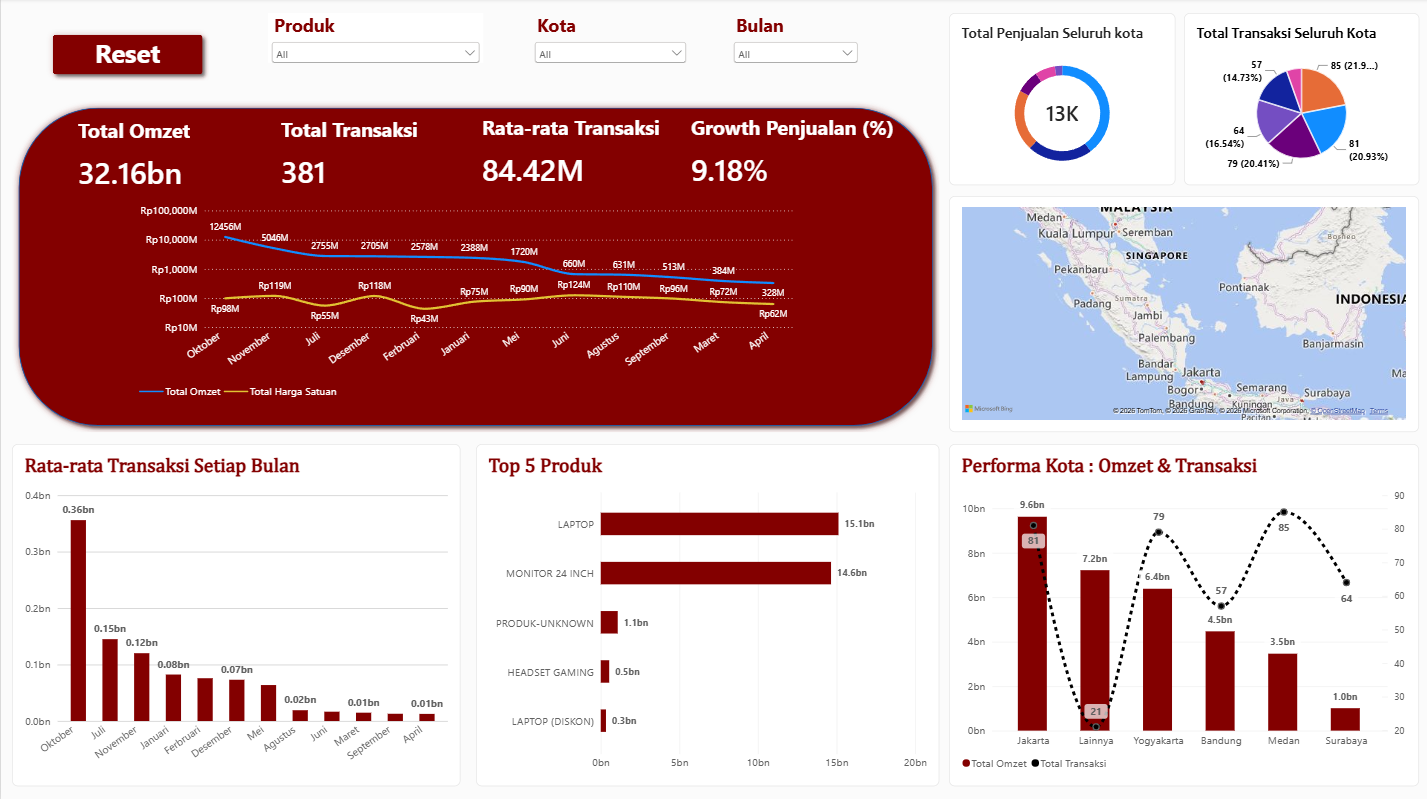

This screenshot's page, from the dashboard's own definition file:
{"tool":"powerbi","page":{"name":"Duplicate of Duplicate of Page 1","canvas":[1920,1080],"ordinal":0},"visuals":[{"type":"shape","box":[14.6,138.6,1248.9,446.4],"z":0},{"type":"cardVisual","fields":{"Data":["public produksi.Total Omzet"]},"box":[87.5,135.7,300,150],"z":1000},{"type":"lineChart","fields":{"Category":["public produksi.Bulan"],"Y":["public produksi.Total Omzet","public produksi.Total Harga Satuan"]},"box":[170.7,261.2,911.9,299.1],"z":2000},{"type":"slicer","fields":{"Values":["public produksi.Produk"]},"box":[358.9,20.4,290.3,67.1],"z":3000},{"type":"slicer","fields":{"Values":["calendar.Month name"]},"box":[981.9,20.4,176.5,67.1],"z":4000},{"type":"cardVisual","fields":{"Data":["public produksi.Total Transaksi"]},"box":[360.4,134.2,300,150],"z":5000},{"type":"filledMap","fields":{"Category":["public produksi.Kota_Toko"]},"box":[1276.6,267,633.2,318.1],"z":6000},{"type":"slicer","fields":{"Values":["public produksi.Kota_Toko"]},"box":[713.4,20.4,214.5,67.1],"z":7000},{"type":"clusteredColumnChart","title":"Rata-rata Transaksi Setiap Bulan","fields":{"Category":["public produksi.Bulan"],"Y":["public produksi.Rata-rata Transaksi"]},"box":[14.6,601.1,604,461],"z":8000},{"type":"cardVisual","fields":{"Data":["public produksi.Rata-rata Transaksi"]},"box":[631.7,131.3,300,150],"z":9000},{"type":"cardVisual","fields":{"Data":["public produksi.Growth Penjualan (%)"]},"box":[913.3,131.3,319.5,150.3],"z":10000},{"type":"donutChart","fields":{"Category":["public produksi.Kota_Toko"],"Y":["public produksi.Total Quantity"]},"box":[1276.6,20.4,304.9,232],"z":11000},{"type":"clusteredBarChart","title":"Top 5 Produk","fields":{"Category":["public produksi.Produk"],"Y":["public produksi.Total Omzet"]},"box":[639,601.1,624.4,461],"z":12000},{"type":"lineClusteredColumnComboChart","title":"Performa Kota : Omzet & Transaksi","fields":{"Category":["public produksi.Kota_Toko"],"Y":["public produksi.Total Omzet"],"Y2":["public produksi.Total Transaksi"]},"box":[1276.6,601.1,633,461],"z":13000},{"type":"pieChart","title":"Total Transaksi Seluruh Kota","fields":{"Category":["public produksi.Kota_Toko"],"Y":["public produksi.Total Transaksi"]},"box":[1593.2,20.4,316.6,232],"z":14000},{"type":"actionButton","box":[60,40,220,71.4],"z":15000}]}

Visuals, with their boxes in screenshot pixels (x1, y1, x2, y2), scaled from the page's 1920x1080 canvas onto the 1427x799 screenshot:
shape: 11, 103, 939, 433
cardVisual - public produksi.Total Omzet: 65, 100, 288, 211
lineChart - public produksi.Bulan x public produksi.Total Omzet: 127, 193, 805, 415
slicer - public produksi.Produk: 267, 15, 483, 65
slicer - calendar.Month name: 730, 15, 861, 65
cardVisual - public produksi.Total Transaksi: 268, 99, 491, 210
filledMap - public produksi.Kota_Toko: 949, 198, 1419, 433
slicer - public produksi.Kota_Toko: 530, 15, 690, 65
"Rata-rata Transaksi Setiap Bulan" clusteredColumnChart: 11, 445, 460, 786
cardVisual - public produksi.Rata-rata Transaksi: 469, 97, 692, 208
cardVisual - public produksi.Growth Penjualan (%): 679, 97, 916, 208
donutChart - public produksi.Kota_Toko x public produksi.Total Quantity: 949, 15, 1175, 187
"Top 5 Produk" clusteredBarChart: 475, 445, 939, 786
"Performa Kota : Omzet & Transaksi" lineClusteredColumnComboChart: 949, 445, 1419, 786
"Total Transaksi Seluruh Kota" pieChart: 1184, 15, 1419, 187
actionButton: 45, 30, 208, 82
